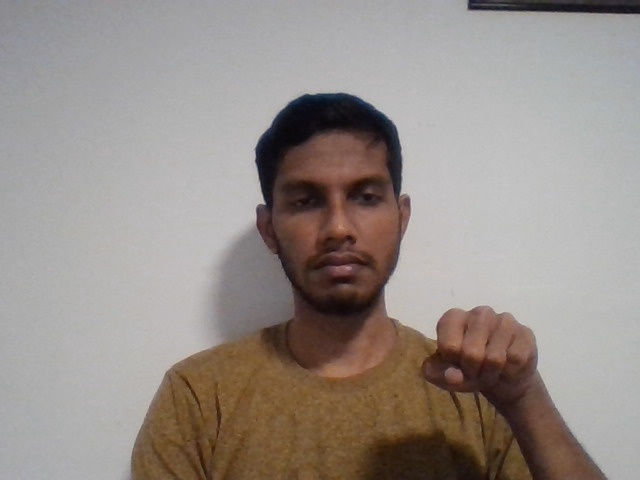yes: (405, 299, 566, 418)
